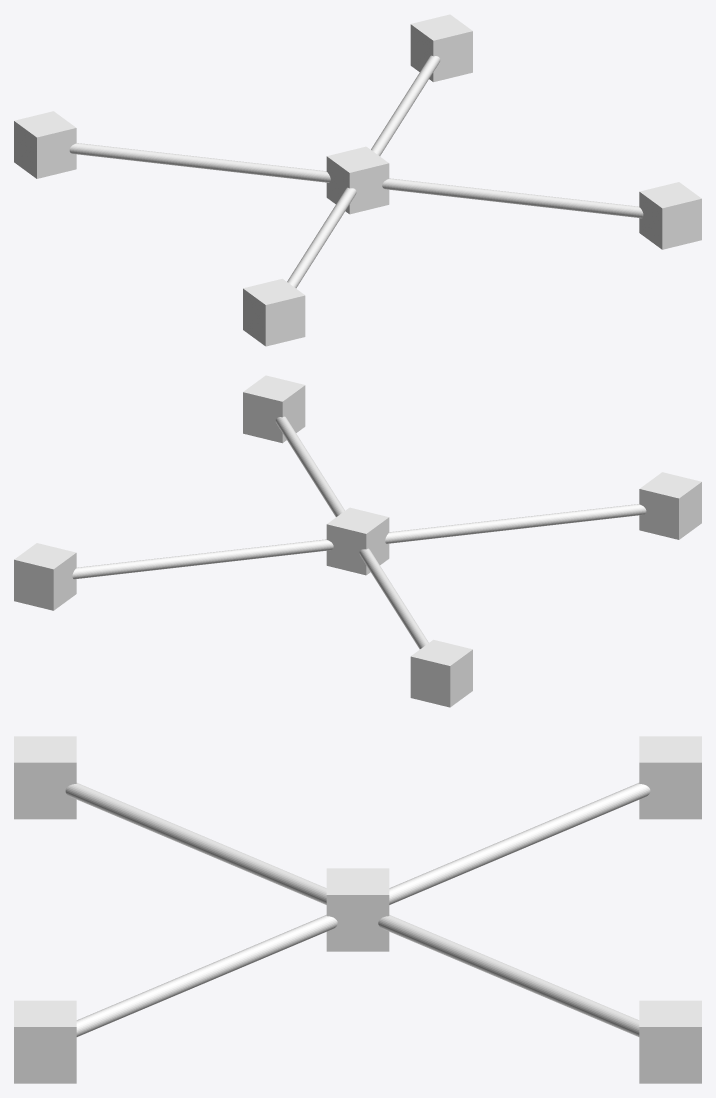
Rendered from drone.obj.
The picture shows the model from 3 angles, top to bottom: view 1: azimuth 30°, elevation 25°; view 2: azimuth 150°, elevation 25°; view 3: azimuth 270°, elevation 25°; orthographic projection. The views are drawn at different scales.
Visible parts, largest first — view 1: drone; view 2: drone; view 3: drone.
Part boxes in pixels (left/top/right/bottom): drone: left=14, top=14, right=701, bottom=346; drone: left=14, top=375, right=701, bottom=707; drone: left=14, top=736, right=701, bottom=1083.
Size of the model in its own units: 22 by 2 by 22.
1 material, 1 textured.
